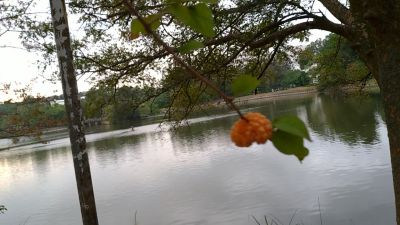eggs: (229, 110, 274, 149)
